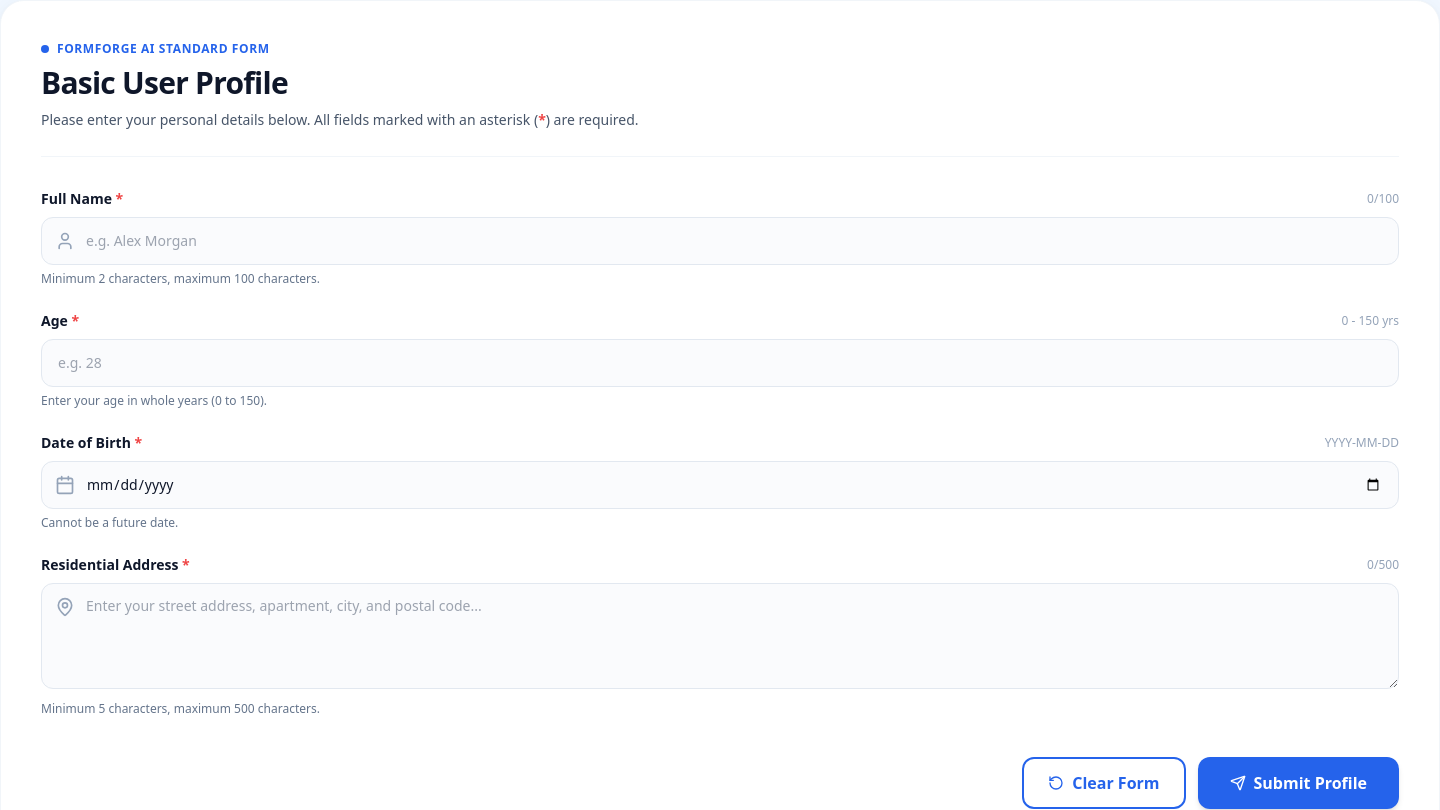
Test: UserProfileForm Component Tests › shows confirmation dialog when clearing a dirty form and resets on confirmation
Type "Samantha Reed" into the field labelled "Full Name *" at (720, 241), box [41,217,1399,265]
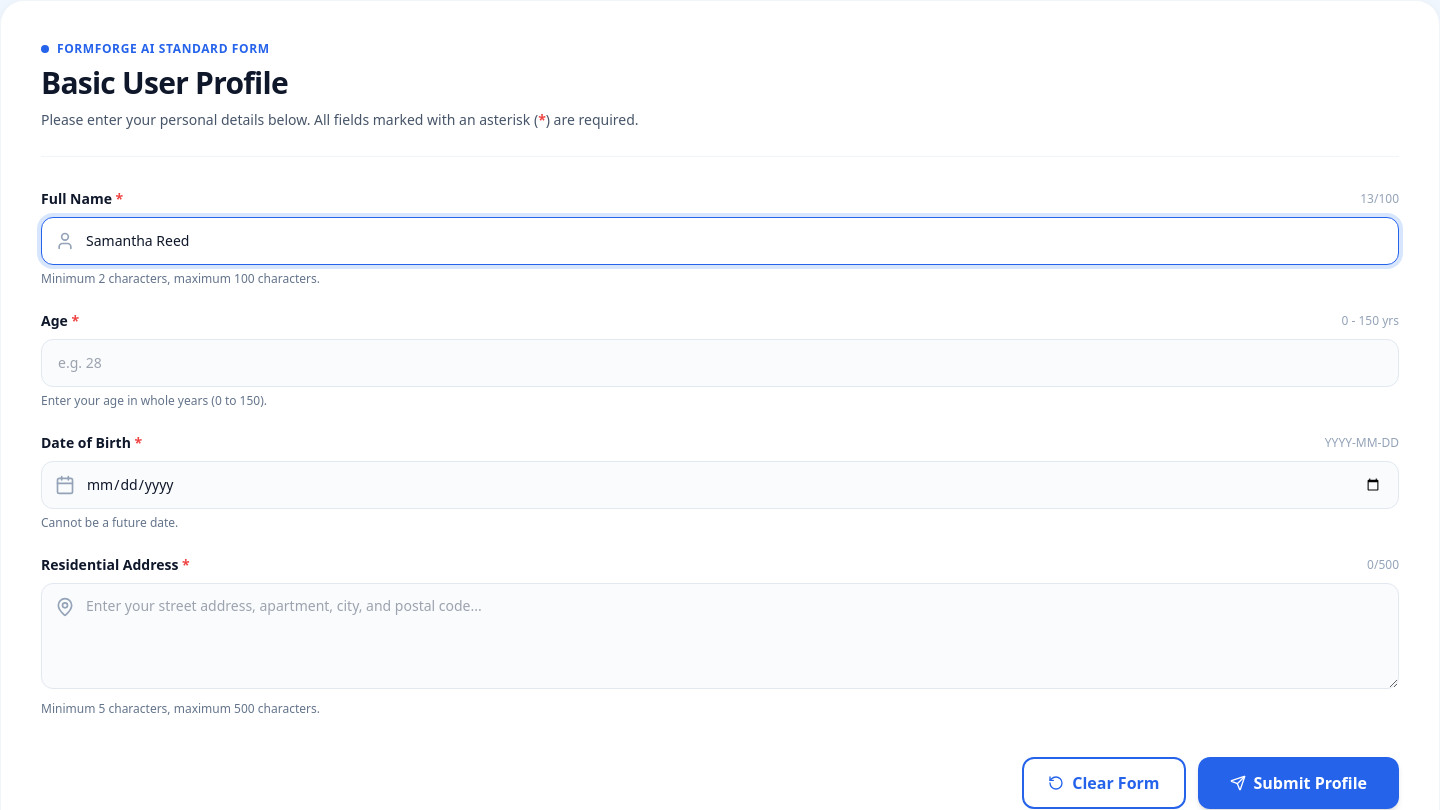
Click the button "Clear Form" at (1104, 783), box [1022,757,1186,809]
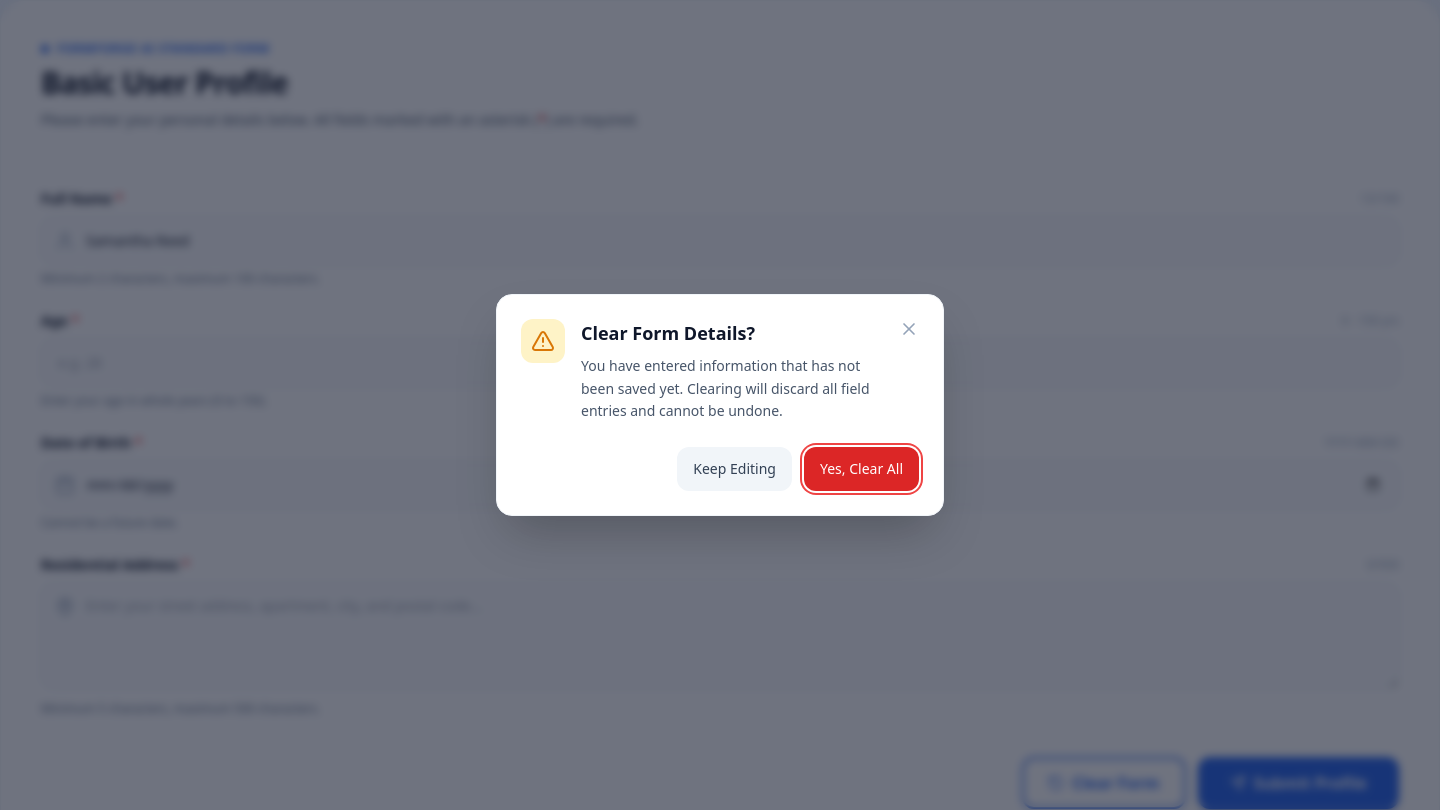
Result: the dialog "Clear Form Details?" is shown at [496,294,944,516]
Result: the text "clearing will discard all field entries" is shown at [581,356,870,420]
Click "Keep Editing"
Click the button "Keep Editing" at (735, 469), box [677,447,792,491]
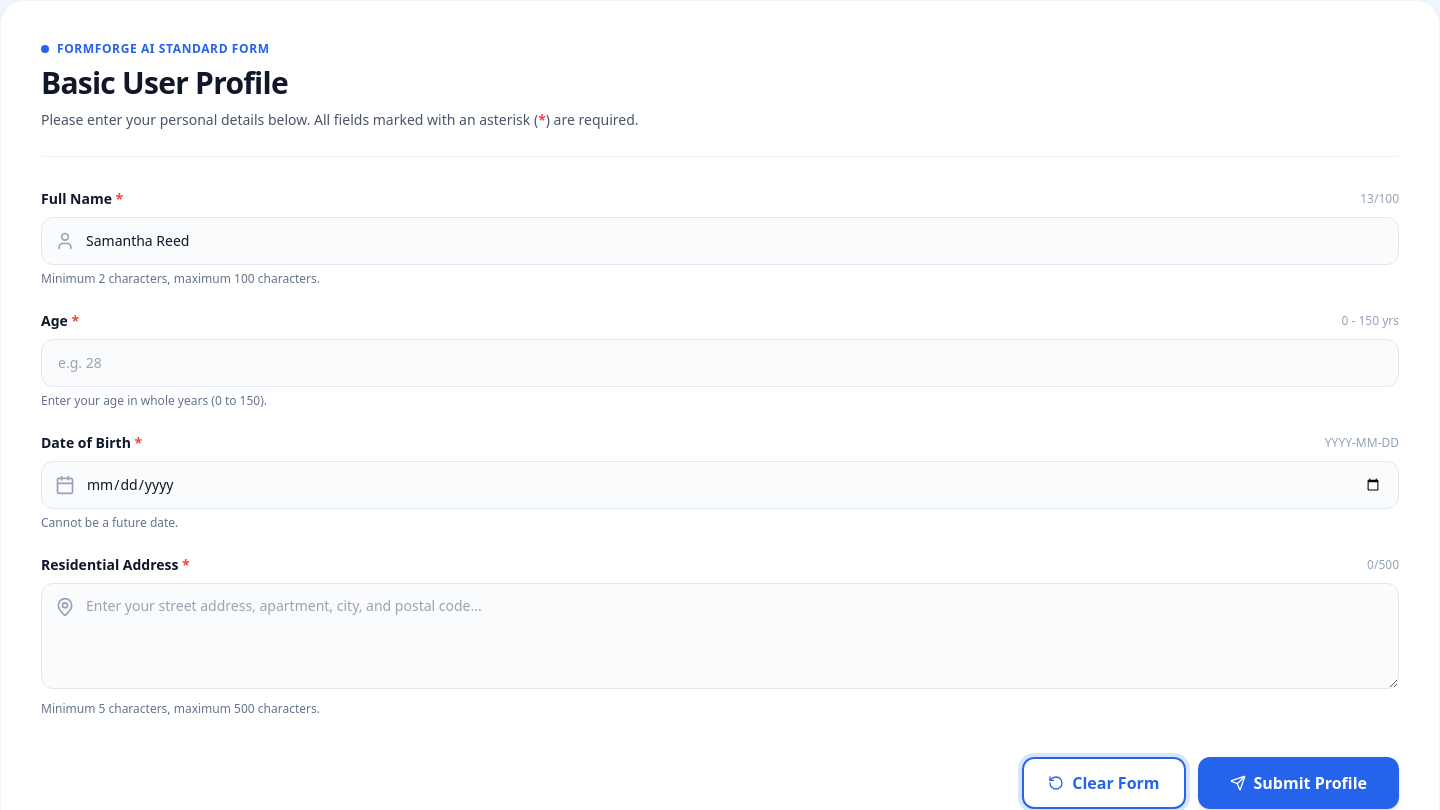
Result: the dialog is gone
Click clear again and confirm
Click the button "Clear Form" at (1104, 783), box [1022,757,1186,809]
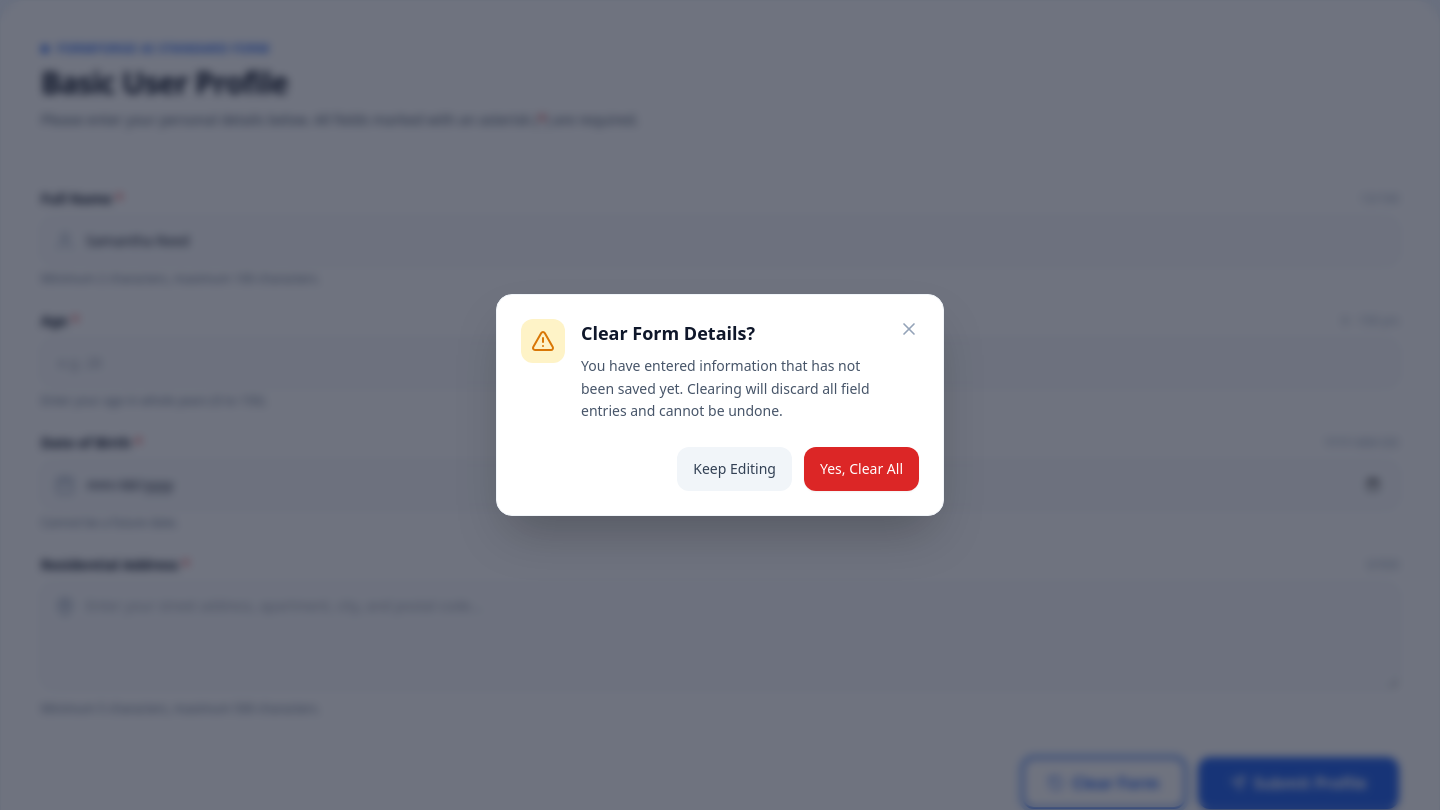
Click the button "Yes, Clear All" at (862, 469), box [804,447,919,491]
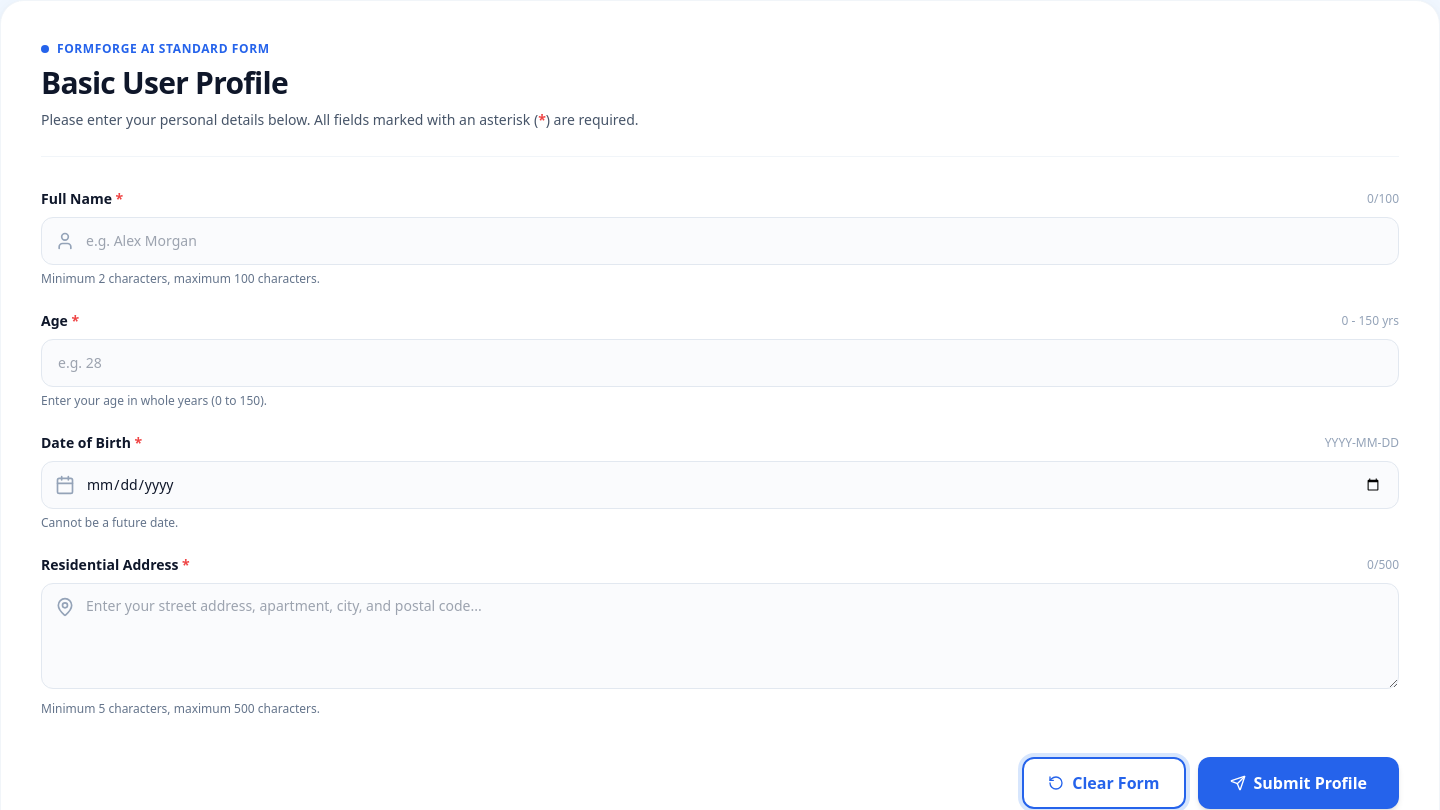
Result: the field labelled "Full Name *" is empty at [41,217,1399,265]
Result: the dialog is gone
